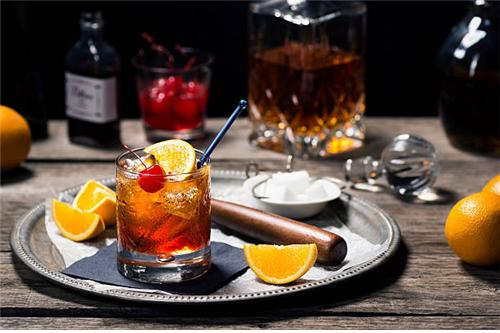alcohol: (249, 3, 365, 160), (117, 144, 214, 284), (66, 5, 121, 150)
